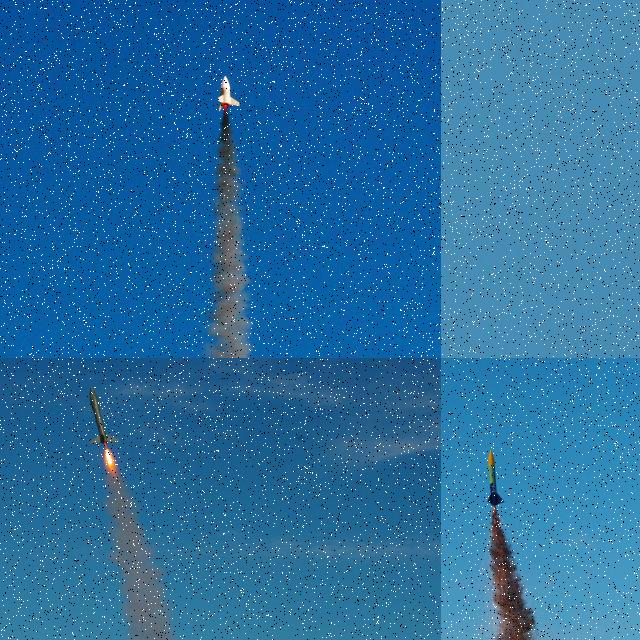Rocket: (88, 386, 121, 444), (488, 449, 506, 506), (217, 75, 240, 112)
